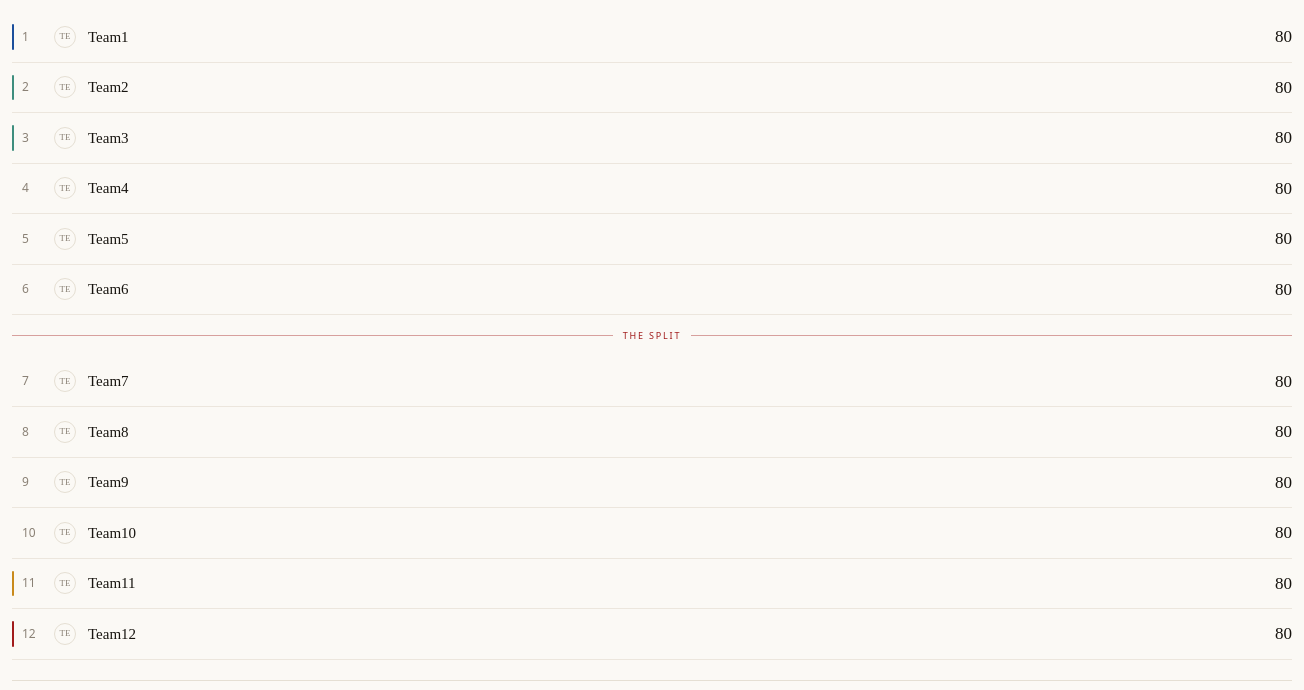
the split renders after 6th in the Premiership and a deduction is stated
Expected: the text "The split" is shown, [623, 329, 681, 342]
Click the text "Team8": (108, 432) [88, 424, 129, 440]
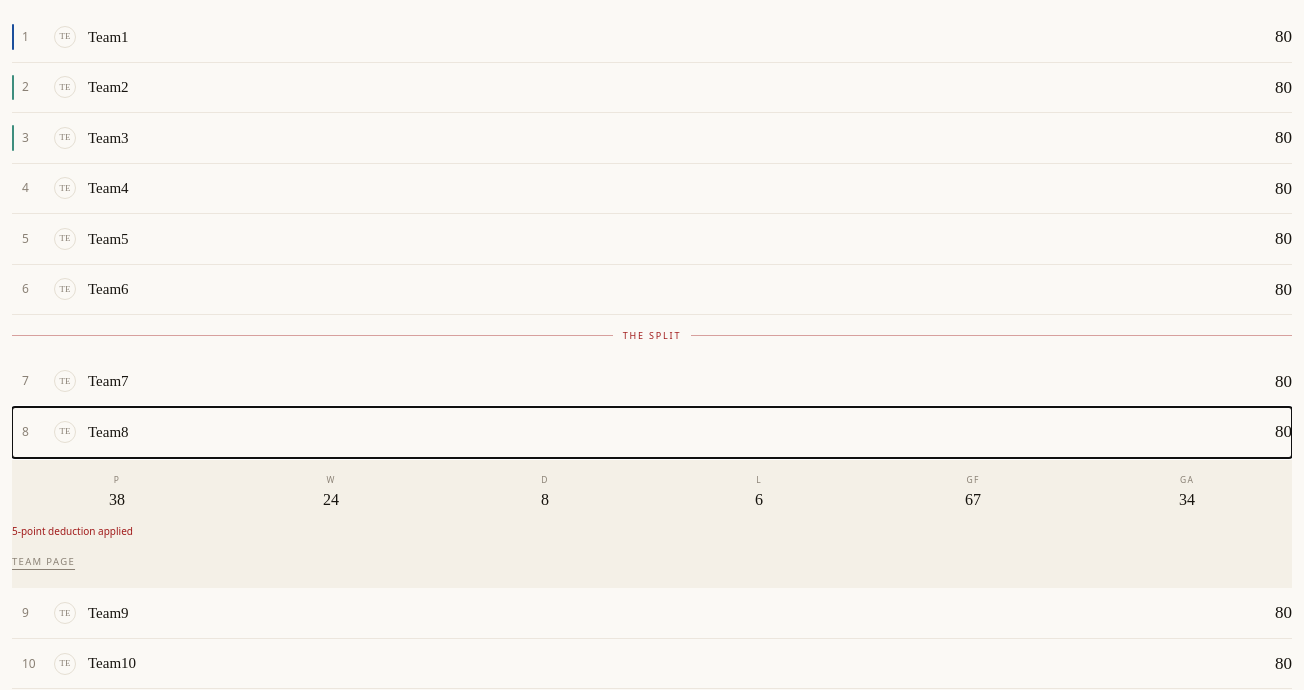
Now the text "5-point deduction applied" is shown, box [12, 524, 133, 538]
